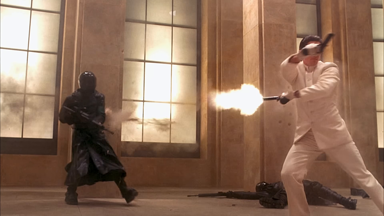firearm: (62, 99, 116, 138), (186, 189, 260, 201), (302, 32, 335, 58), (261, 92, 290, 104)
